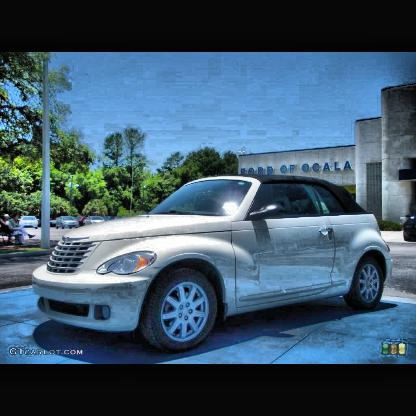Chrysler PT Cruiser Convertible 2008: (31, 174, 396, 354)
